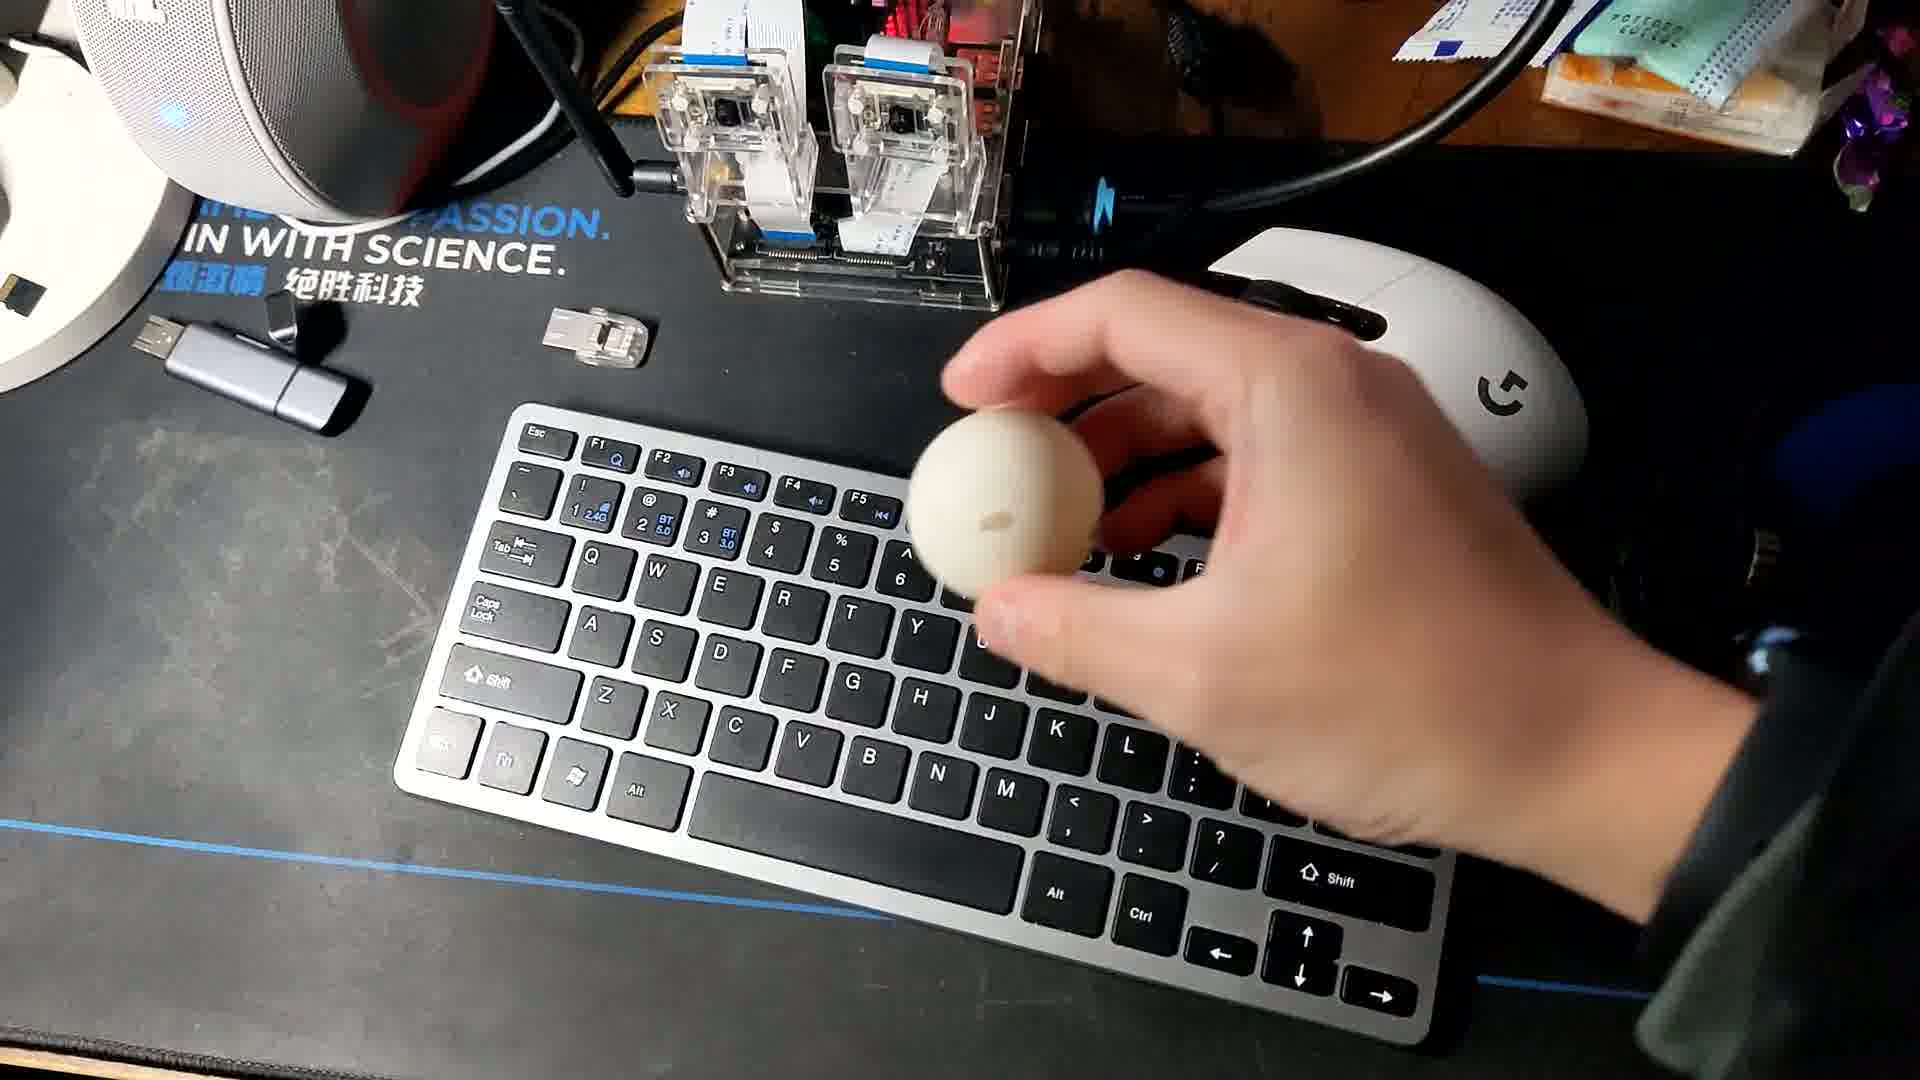Ball: (909, 411, 1100, 585)
